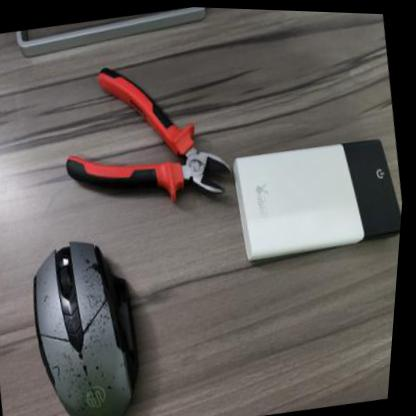mouserotation: (17, 227, 163, 415)
